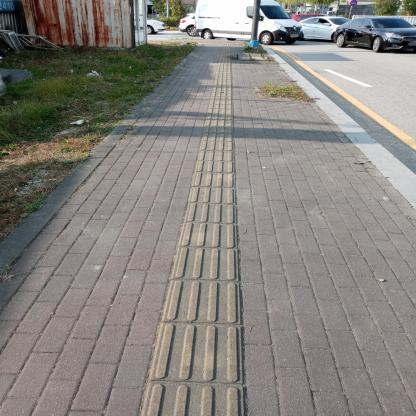podotacti: (130, 150, 255, 416), (197, 51, 238, 159)
